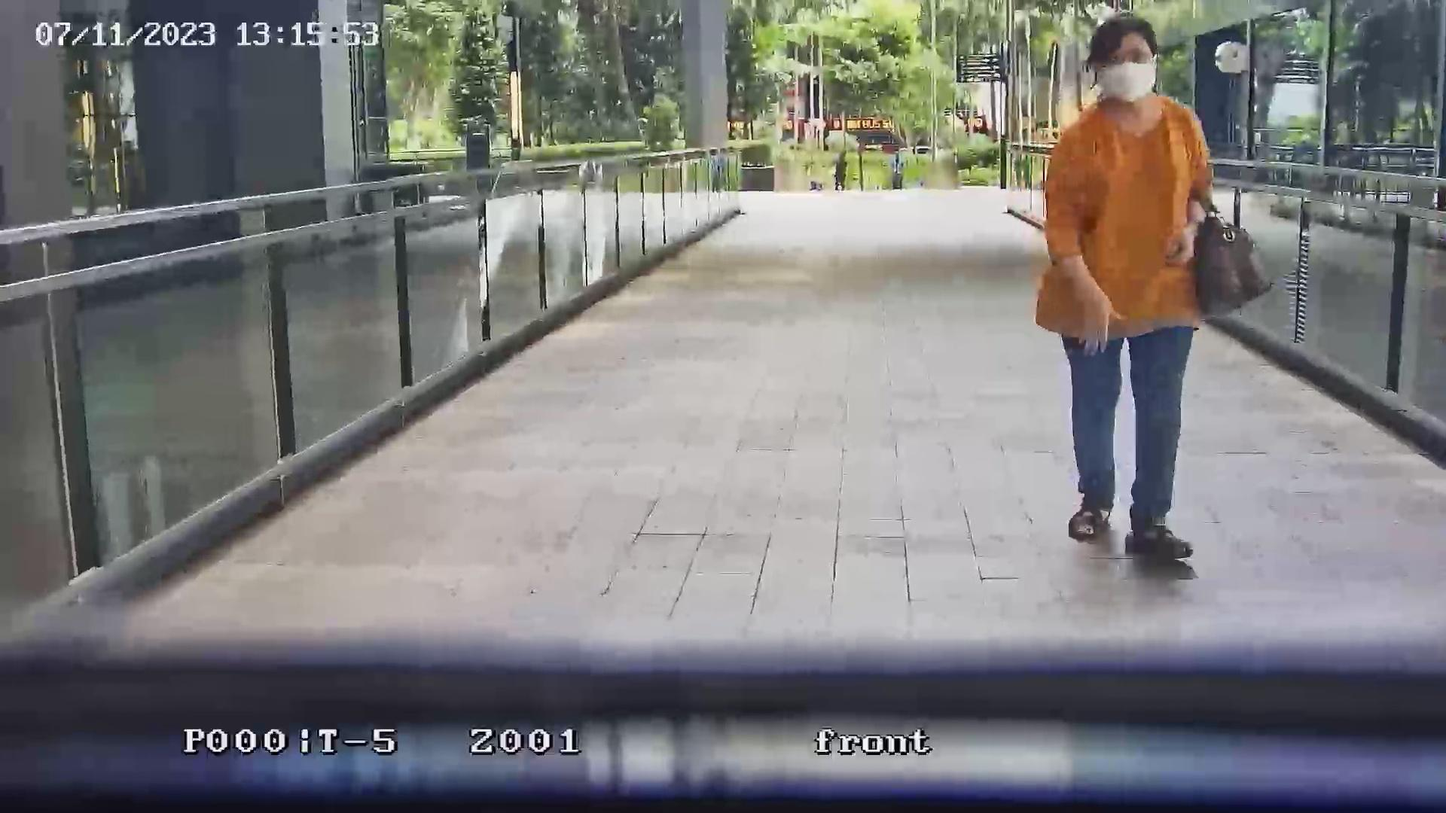person: (1035, 12, 1216, 559)
